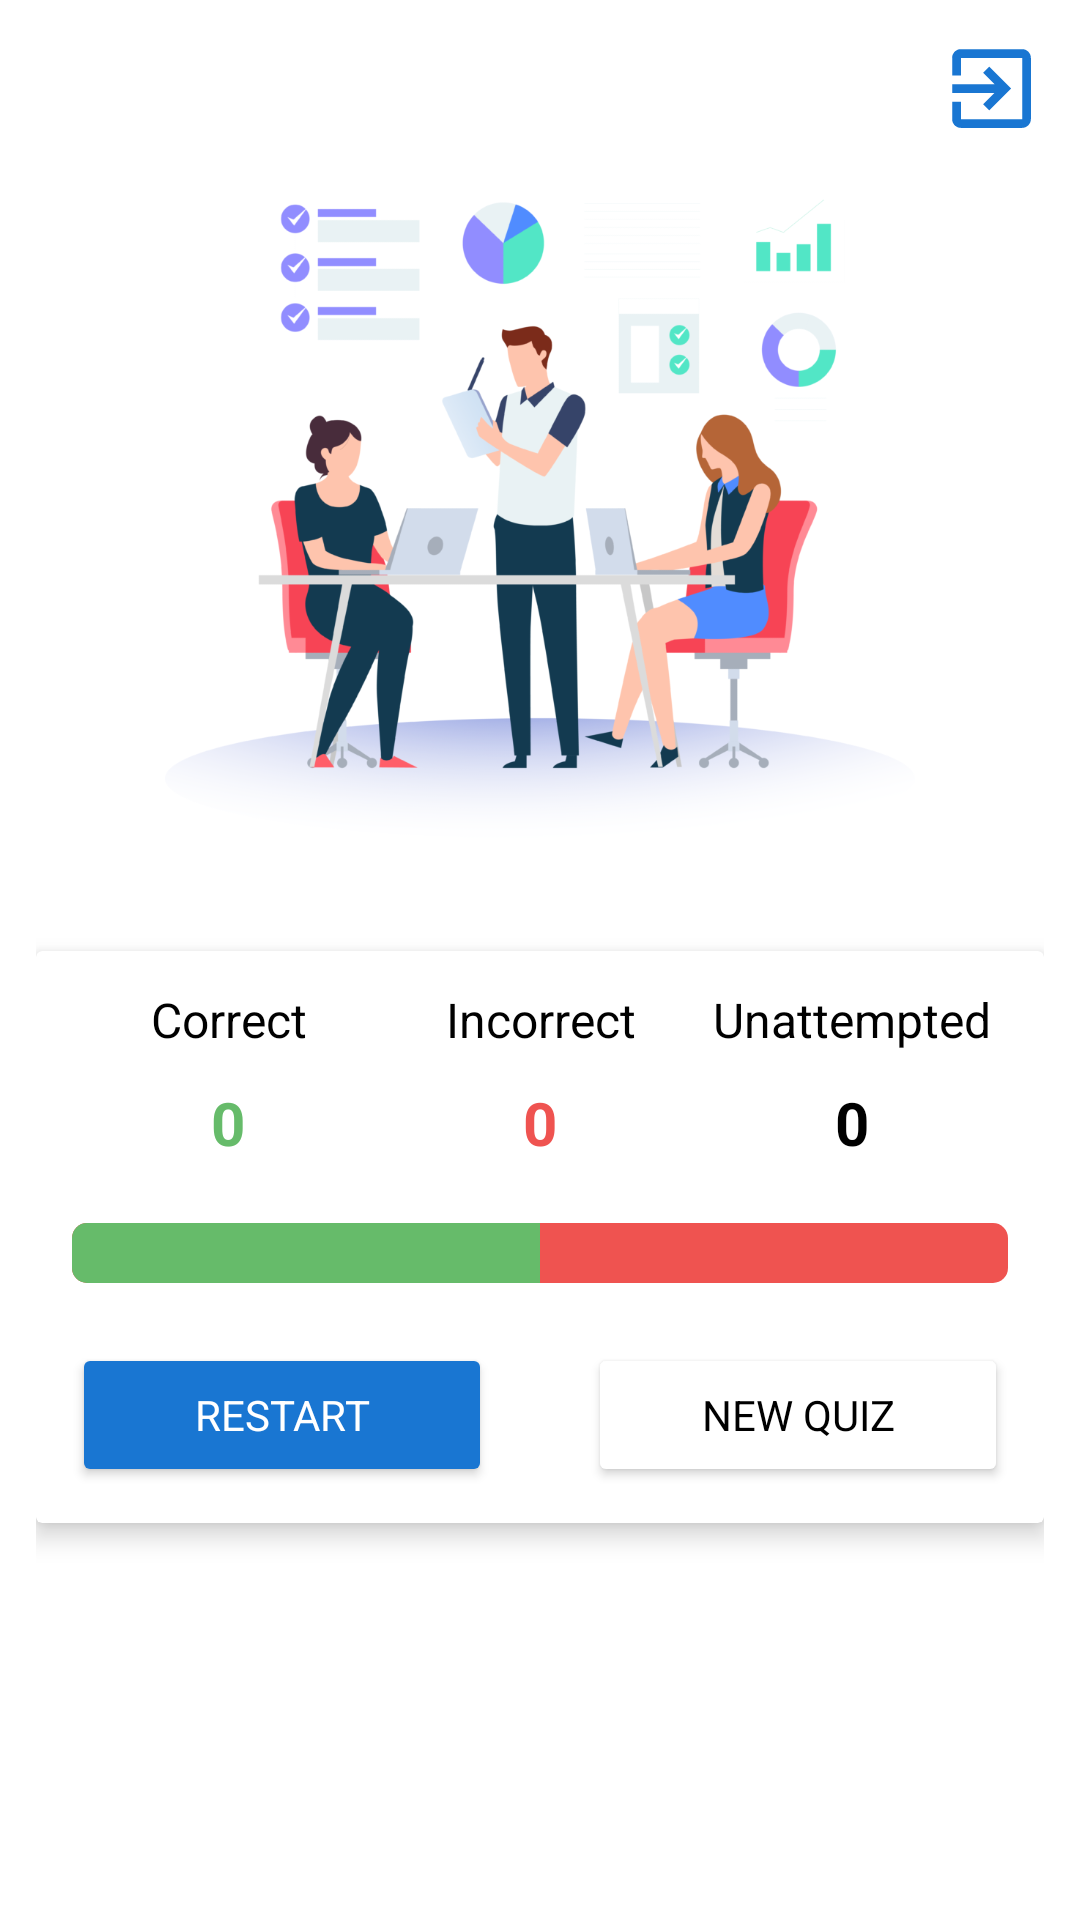

Named icons in this screenshot (1080 × 1920) and their bounding boxes, box(x1, y1, x2, y2):
exit to app: box(952, 49, 1031, 128)
